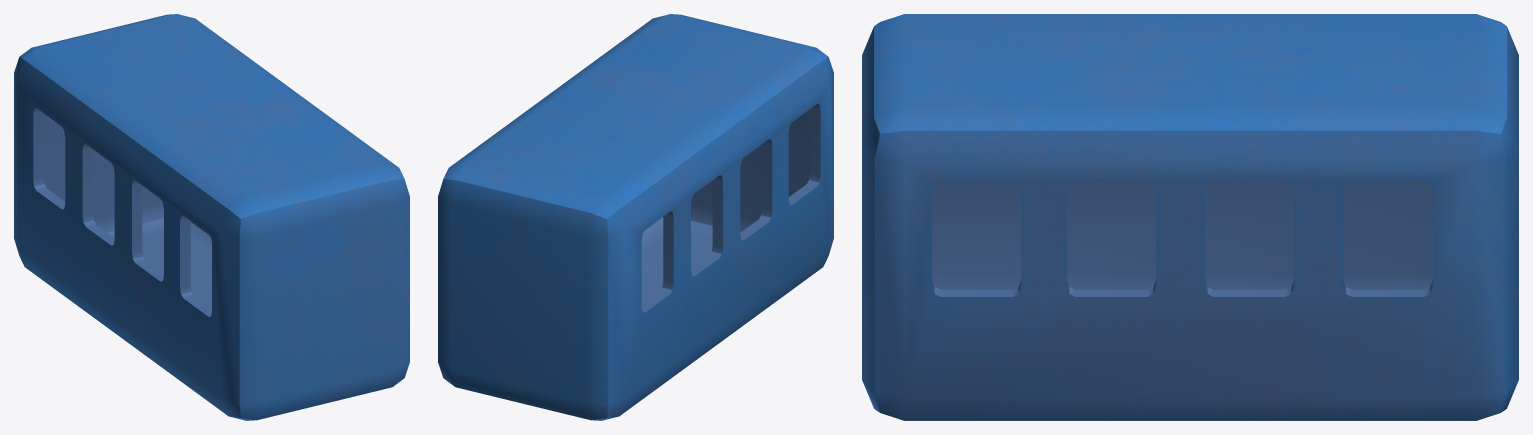
The model's file is SM_Train_WagonStandard.fbx.
The picture shows the model from 3 angles, left to right: view 1: azimuth 30°, elevation 25°; view 2: azimuth 150°, elevation 25°; view 3: azimuth 270°, elevation 25°; orthographic projection. The views are drawn at different scales.
Parts seen in each view (by area): view 1: SM_Train_WagonStandard_LOD0; view 2: SM_Train_WagonStandard_LOD0; view 3: SM_Train_WagonStandard_LOD0.
Part boxes in pixels (left/top/right/bottom): SM_Train_WagonStandard_LOD0: left=14, top=14, right=409, bottom=420; SM_Train_WagonStandard_LOD0: left=438, top=14, right=833, bottom=420; SM_Train_WagonStandard_LOD0: left=862, top=14, right=1518, bottom=420.
Bounding box in the file's own units: 12.71 × 27.95 × 14.77.
Materials: 1 (1 with a texture image).
